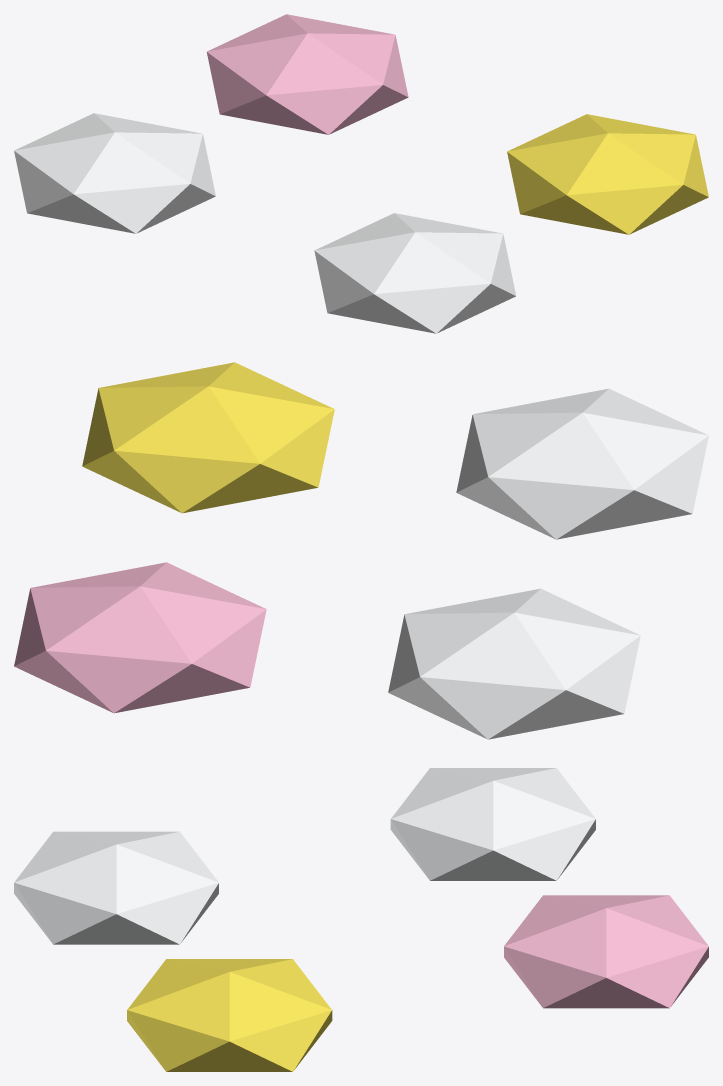
File: prop_wildflower_patch.glb
The picture shows the model from 3 angles, top to bottom: view 1: azimuth 30°, elevation 25°; view 2: azimuth 150°, elevation 25°; view 3: azimuth 270°, elevation 25°; orthographic projection. The views are drawn at different scales.
Visible parts, largest first — view 1: Mesh_Wildflowers; view 2: Mesh_Wildflowers; view 3: Mesh_Wildflowers.
Boxes of the visible parts, x1,y1,x2,y2 form: Mesh_Wildflowers: (14, 14, 708, 333); Mesh_Wildflowers: (14, 362, 708, 739); Mesh_Wildflowers: (14, 768, 708, 1071).
Bounding box in the file's own units: 0.8862 × 0.128 × 0.9222.
